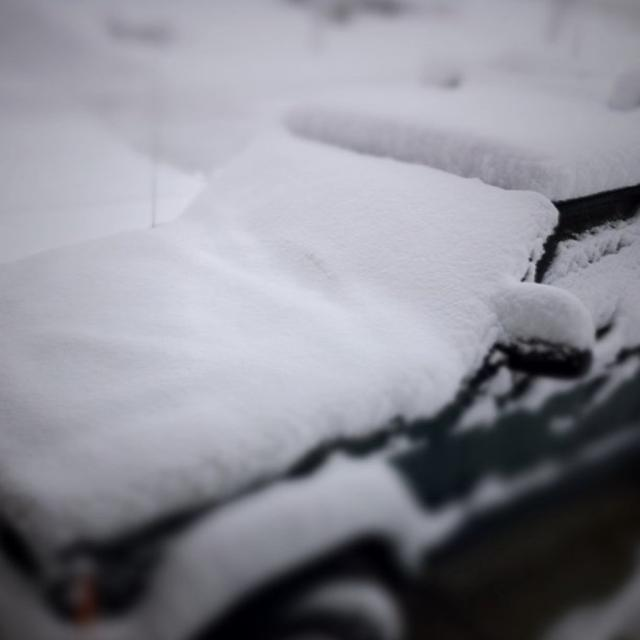car: (0, 96, 638, 638)
